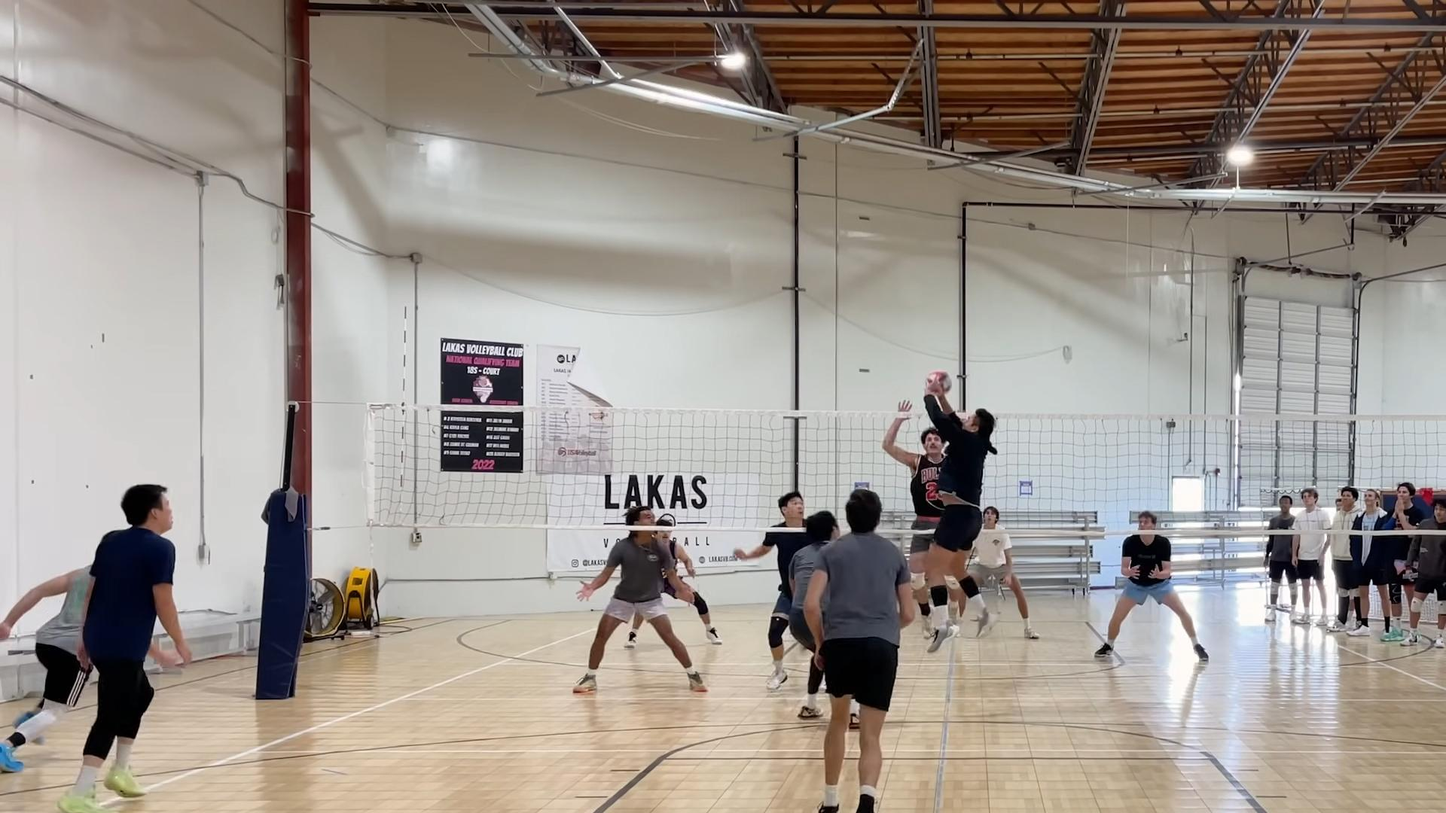Player: (57, 485, 191, 812), (804, 489, 914, 812), (573, 506, 706, 693), (0, 568, 90, 772), (1095, 511, 1208, 661), (882, 400, 944, 617), (734, 531, 808, 690), (969, 506, 1038, 638), (789, 511, 838, 655), (789, 512, 838, 654), (654, 530, 696, 578)
Set: (919, 369, 999, 654)
ball: (923, 372, 951, 395)
